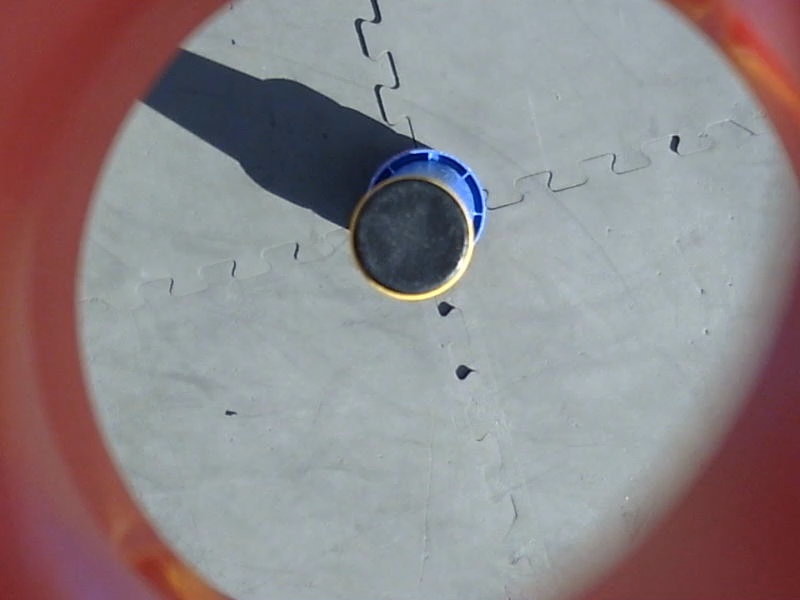tip: (339, 172, 485, 309)
